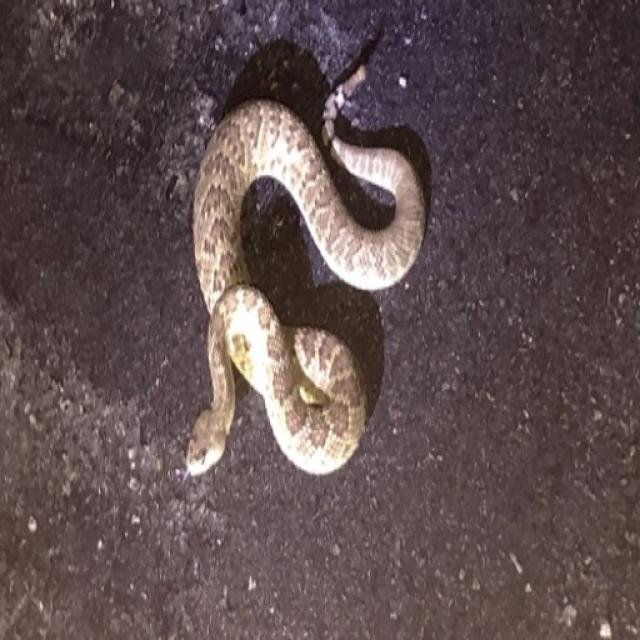snake: (144, 54, 440, 491)
